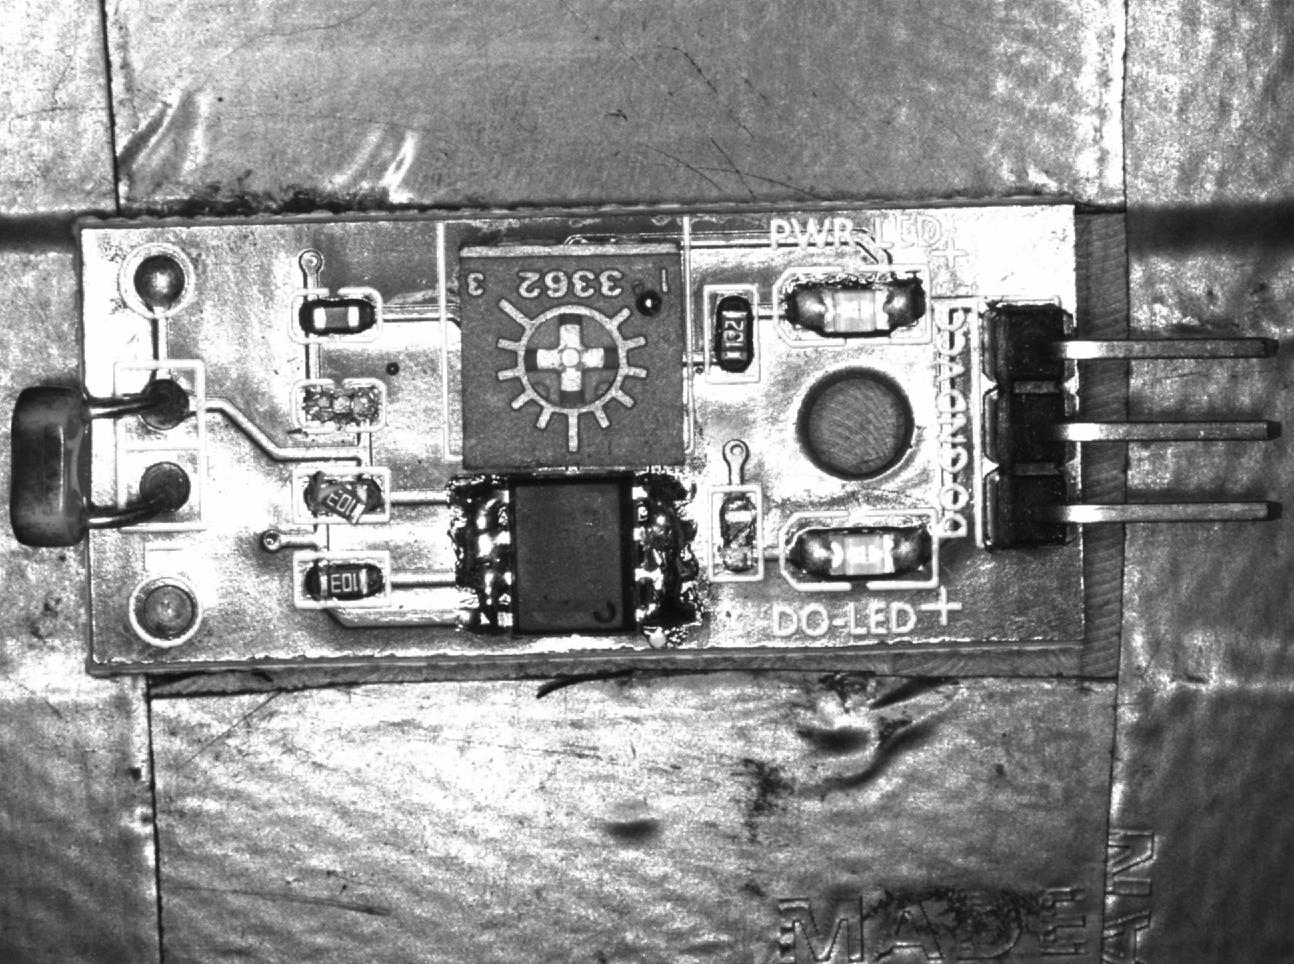bridge: (630, 477, 704, 635), (448, 481, 518, 632)
lifted: (293, 470, 393, 526)
miss: (293, 380, 385, 427), (714, 490, 762, 579)
ok: (706, 285, 761, 380), (290, 290, 382, 345), (291, 555, 392, 606)
